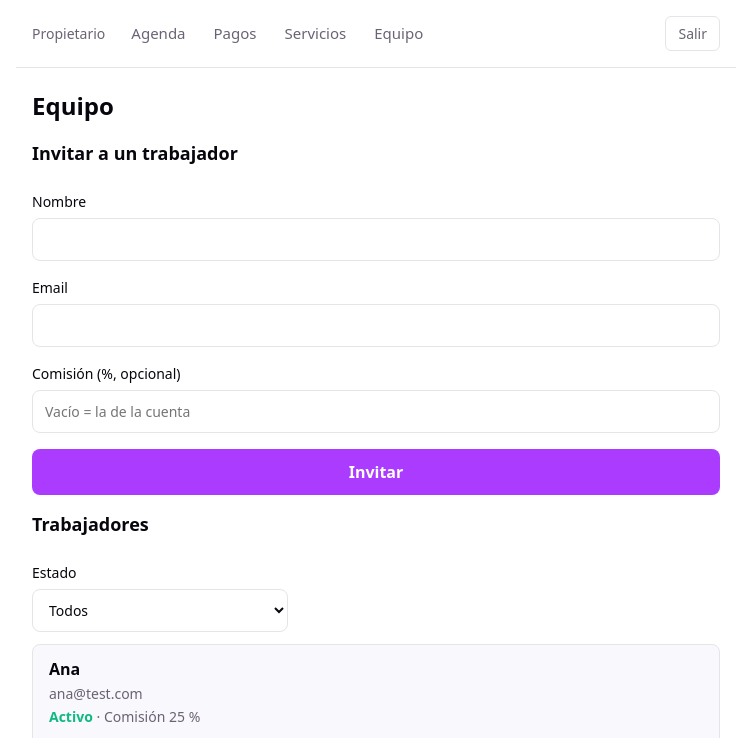
RF-10: email_taken se muestra como "ese email ya está en uso" y conserva lo escrito
expect the text "Ana" is shown: met, box [49,658,80,680]
Type "Dani" into the field labelled "Nombre". click: [376, 240]
box: [32,218,720,261]
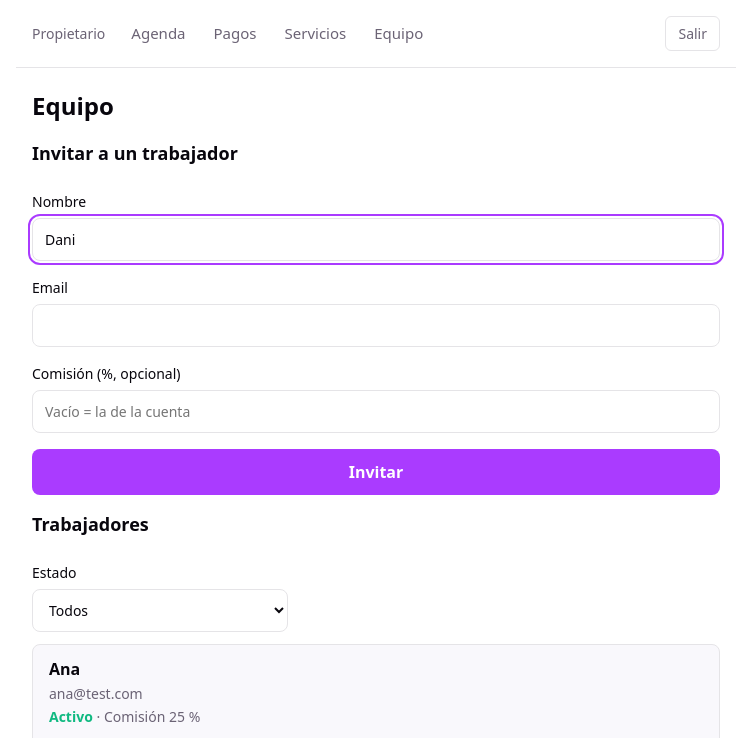
Type "dani@test.com" into the field labelled "Email". click: [376, 326]
box: [32,304,720,347]
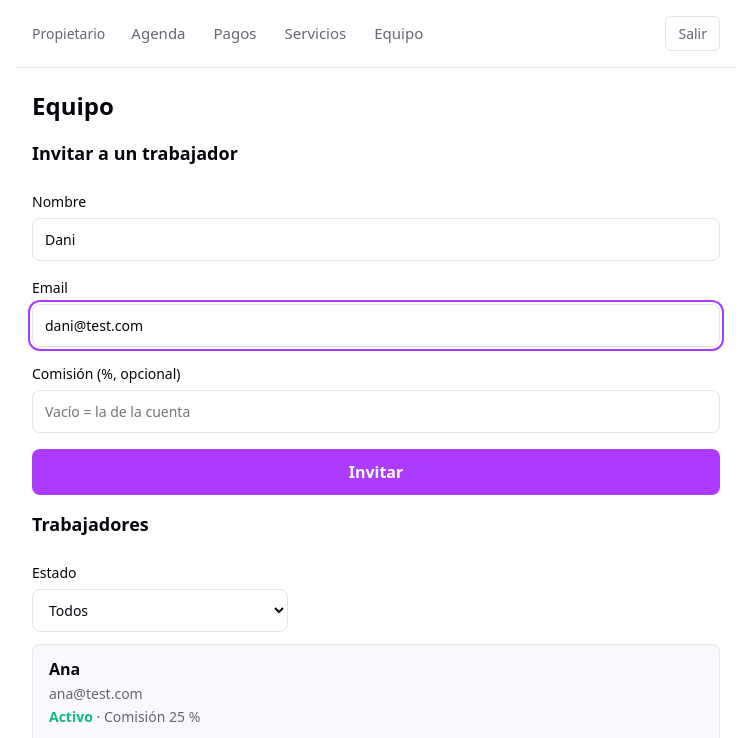
Click the button "Invitar". click: [376, 472]
box: [32,449,720,495]
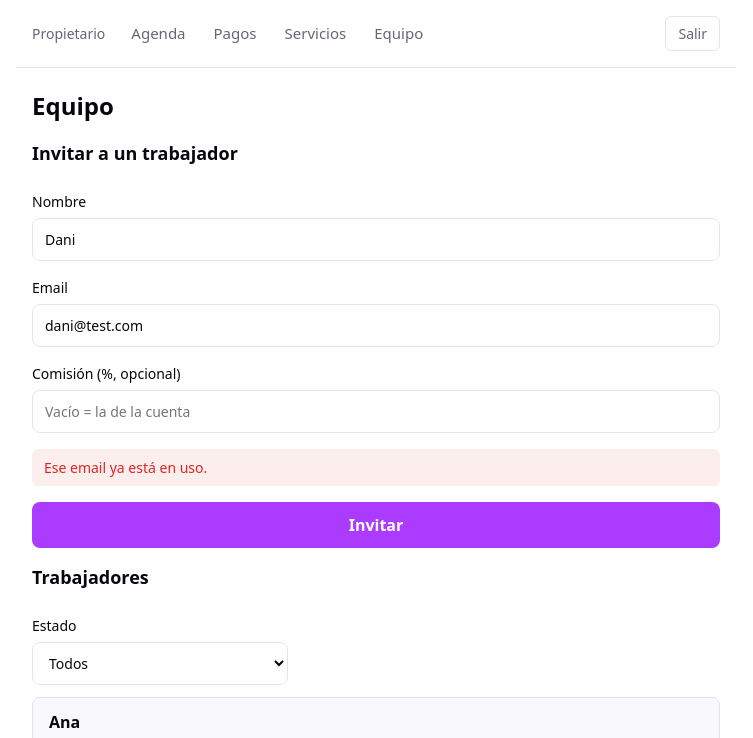
expect the message shows "Ese email ya está en uso": met, box [44,458,207,477]
